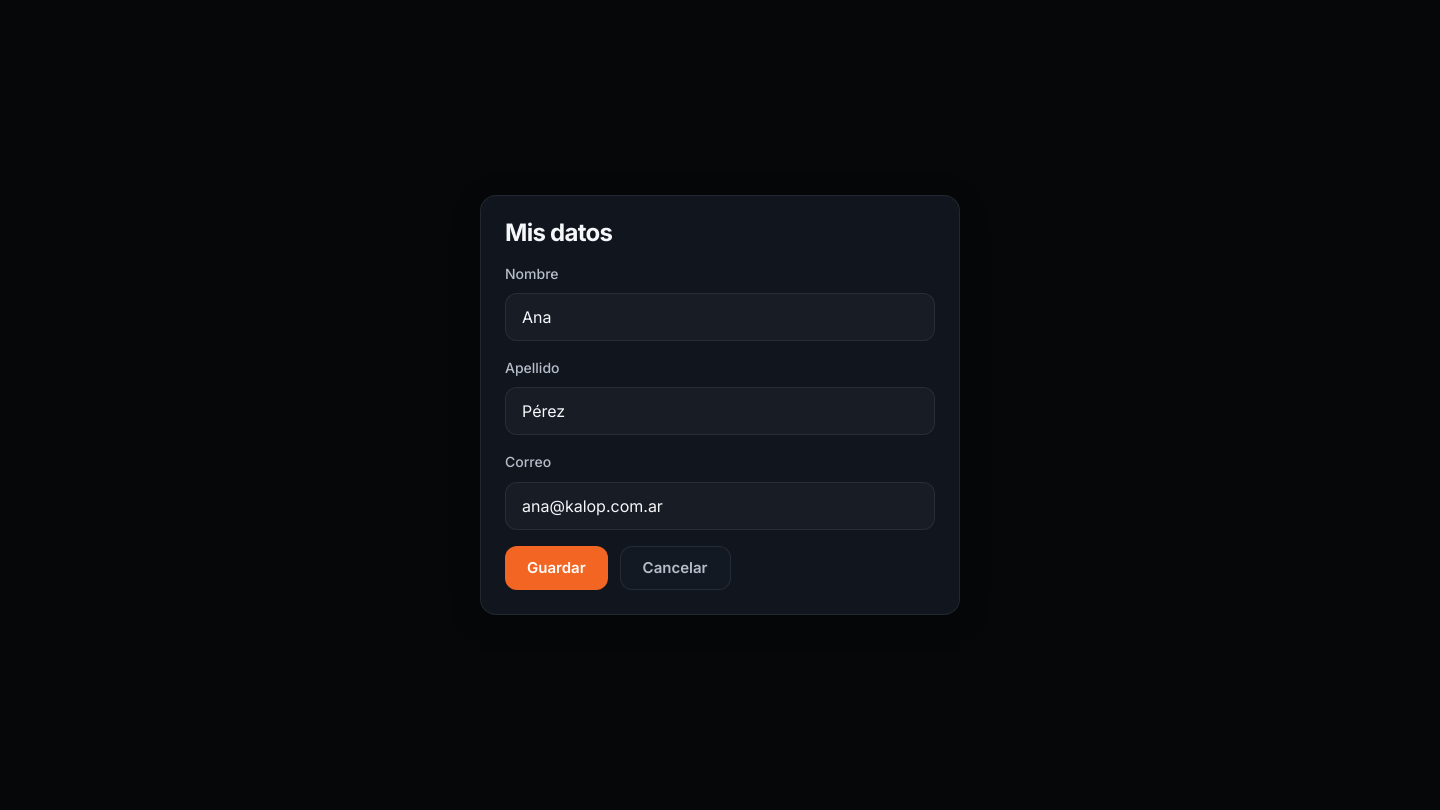
Test case: ModalMisDatos › si el backend rechaza, muestra el error y no se cierra
The image size is (1440, 810).
Click the button "Guardar" at (556, 568), box [505,546,608,590]
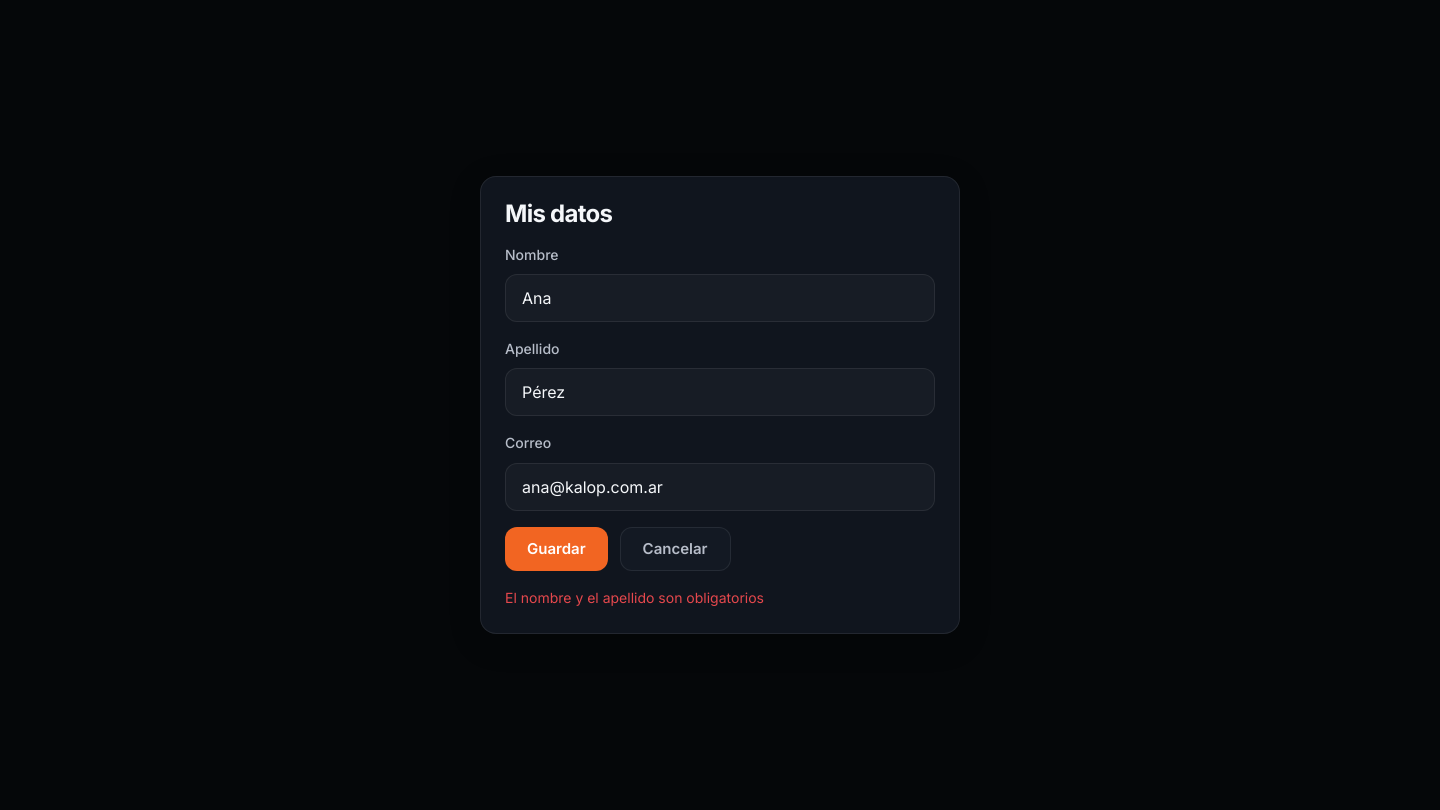
Now the text "El nombre y el apellido son obligatorios" is shown, box [505,589,764,606]
